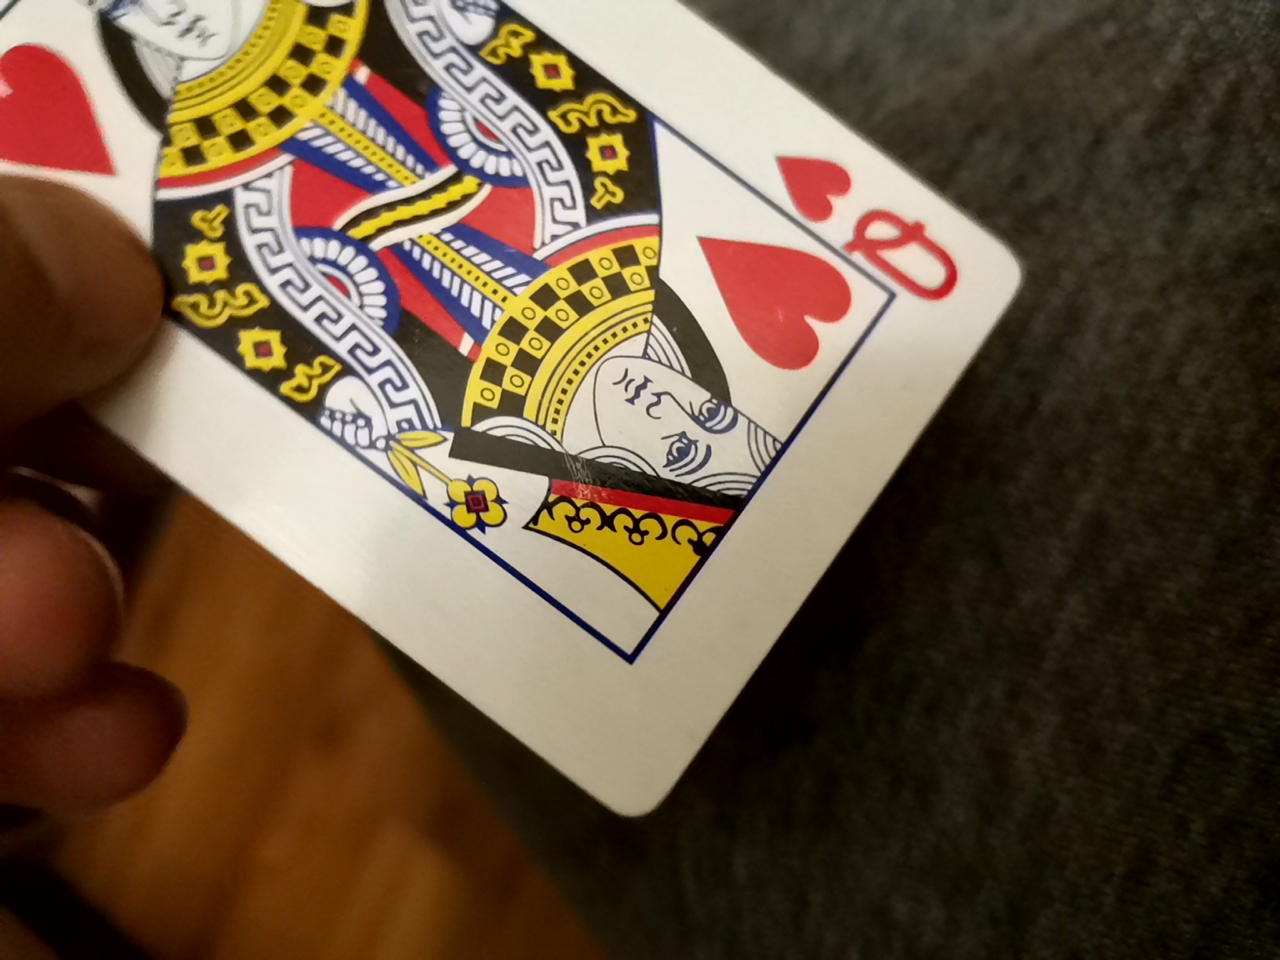hx q: (36, 0, 1023, 844)
